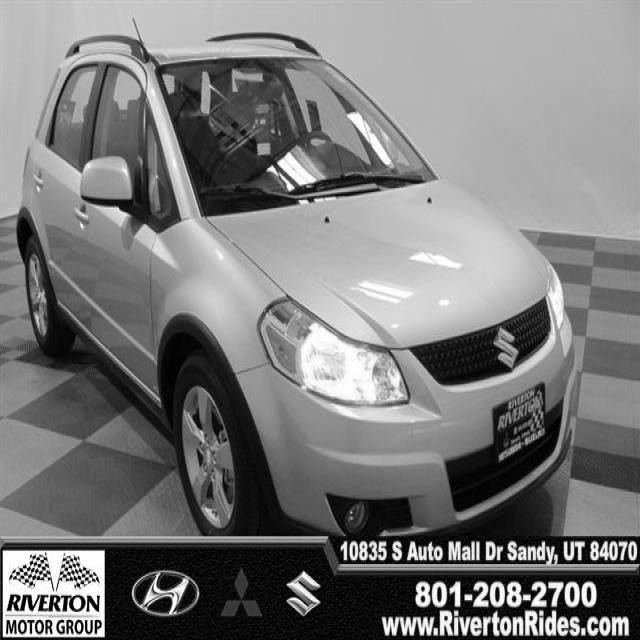car: (15, 19, 578, 540)
